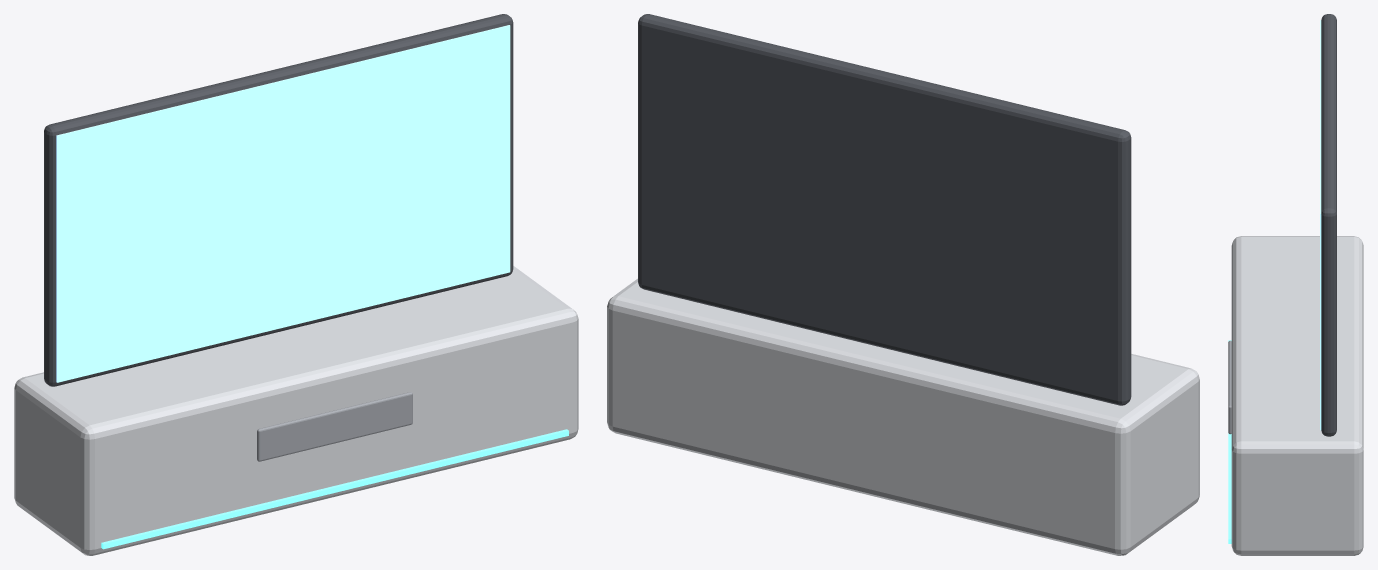
The model's file is tv_unit_wall_screen.glb.
3 views of the same model, side by side, from view 1: azimuth 30°, elevation 25°; view 2: azimuth 150°, elevation 25°; view 3: azimuth 270°, elevation 25° (orthographic). The views are drawn at different scales.
Visible parts, largest first — view 1: GD_tv_unit_wall_screen__m2, GD_tv_unit_wall_screen__m0, GD_tv_unit_wall_screen__m1, GD_tv_unit_wall_screen__m4, GD_tv_unit_wall_screen__m3; view 2: GD_tv_unit_wall_screen__m1, GD_tv_unit_wall_screen__m0; view 3: GD_tv_unit_wall_screen__m0, GD_tv_unit_wall_screen__m1, GD_tv_unit_wall_screen__m2, GD_tv_unit_wall_screen__m3, GD_tv_unit_wall_screen__m4.
Boxes of the visible parts, x1,y1,x2,y2 form: GD_tv_unit_wall_screen__m2: (56,25,510,382); GD_tv_unit_wall_screen__m0: (14,266,578,555); GD_tv_unit_wall_screen__m1: (44,14,513,386); GD_tv_unit_wall_screen__m4: (257,392,412,461); GD_tv_unit_wall_screen__m3: (101,429,568,549); GD_tv_unit_wall_screen__m1: (638,14,1131,405); GD_tv_unit_wall_screen__m0: (607,278,1199,555); GD_tv_unit_wall_screen__m0: (1231,236,1363,555); GD_tv_unit_wall_screen__m1: (1321,14,1336,436); GD_tv_unit_wall_screen__m2: (1320,20,1321,430); GD_tv_unit_wall_screen__m3: (1228,340,1231,543); GD_tv_unit_wall_screen__m4: (1228,340,1231,434).
Size of the model in its own units: 1.6 by 1.2 by 0.431.
